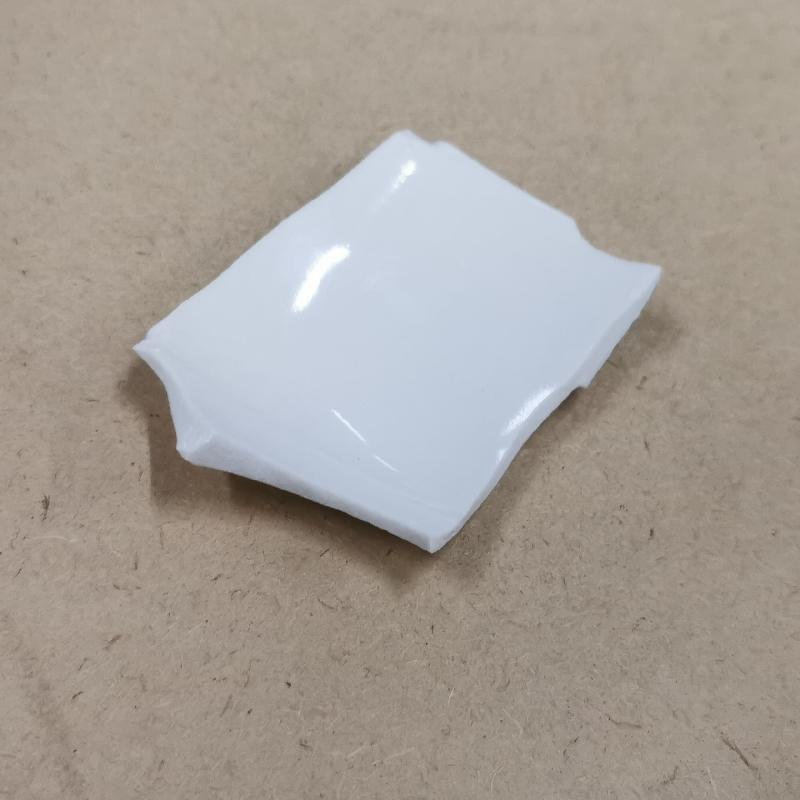ceram: (123, 123, 673, 566)
